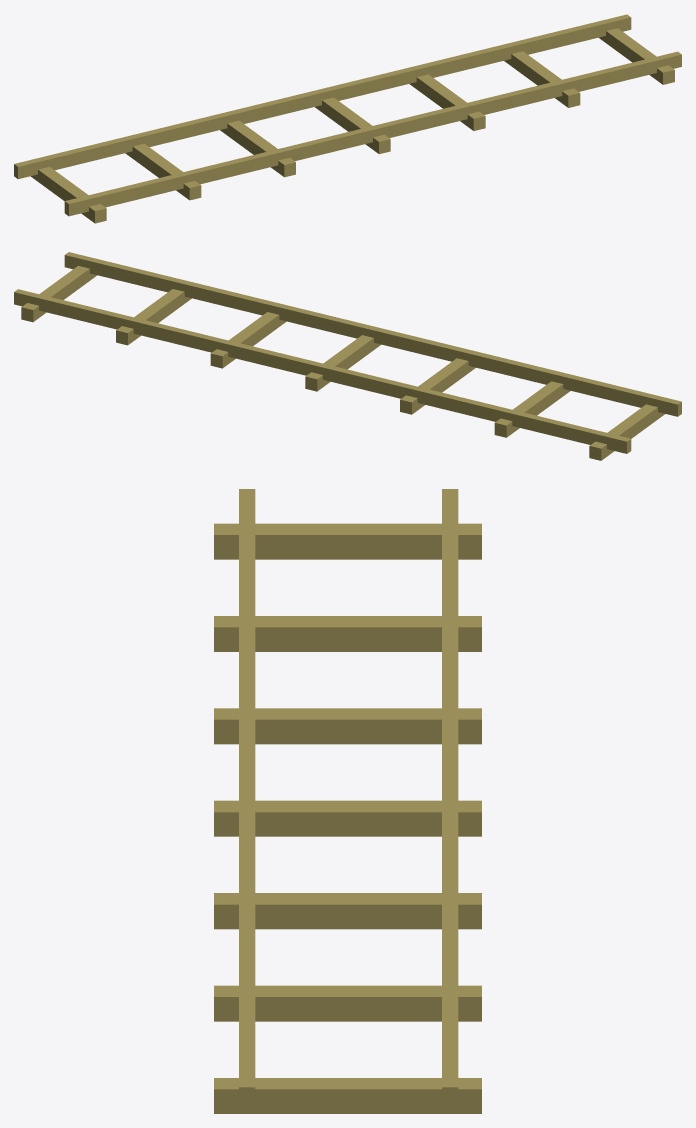
Rendered from Dolly_Track.fbx.
3 renders of one model, top to bottom at view 1: azimuth 30°, elevation 25°; view 2: azimuth 150°, elevation 25°; view 3: azimuth 270°, elevation 25°, orthographic. The views are drawn at different scales.
Visible parts, largest first — view 1: Dolly_Track; view 2: Dolly_Track; view 3: Dolly_Track.
Part boxes in pixels (x1=…): Dolly_Track: x1=14, y1=14, x2=681, y2=223; Dolly_Track: x1=14, y1=252, x2=681, y2=460; Dolly_Track: x1=214, y1=489, x2=481, y2=1113.
Bounding box in the file's own units: 391 × 12.04 × 73.9.
